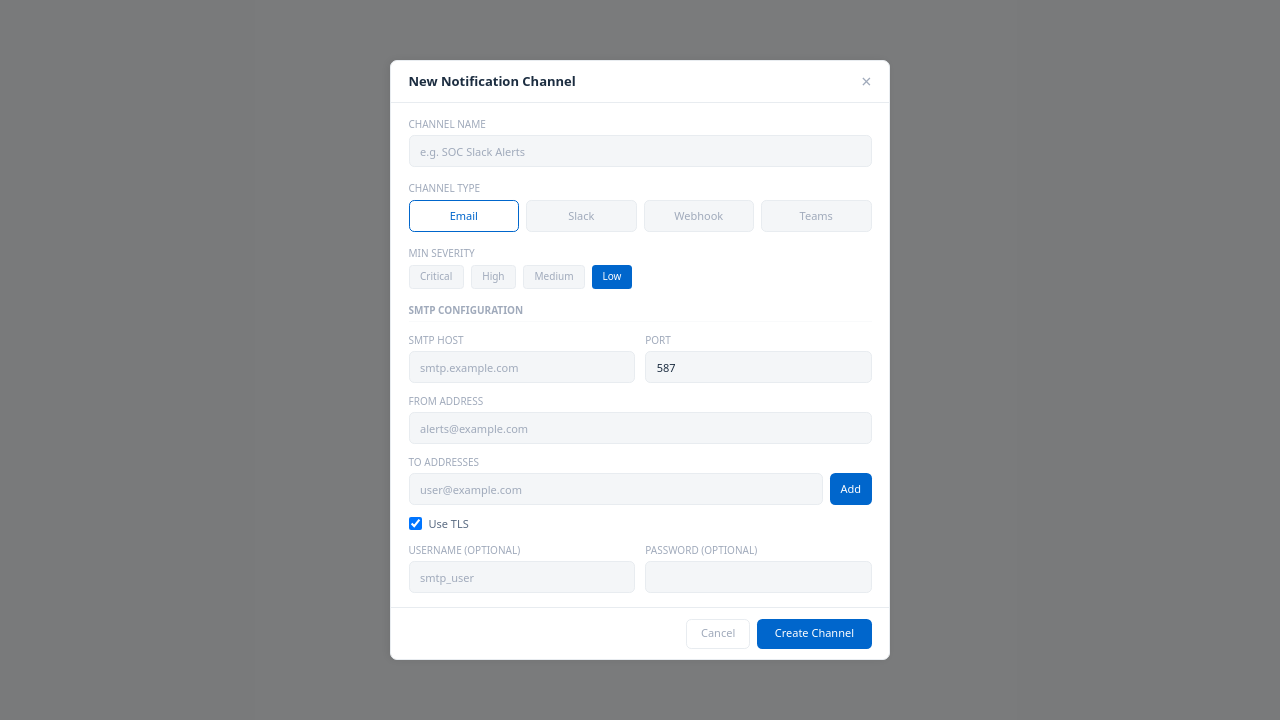
Test: ChannelModal › create mode — type switching › shows Teams webhook URL field when Teams type is selected
Click the button "Teams": [816, 216] box [761,200,872,232]
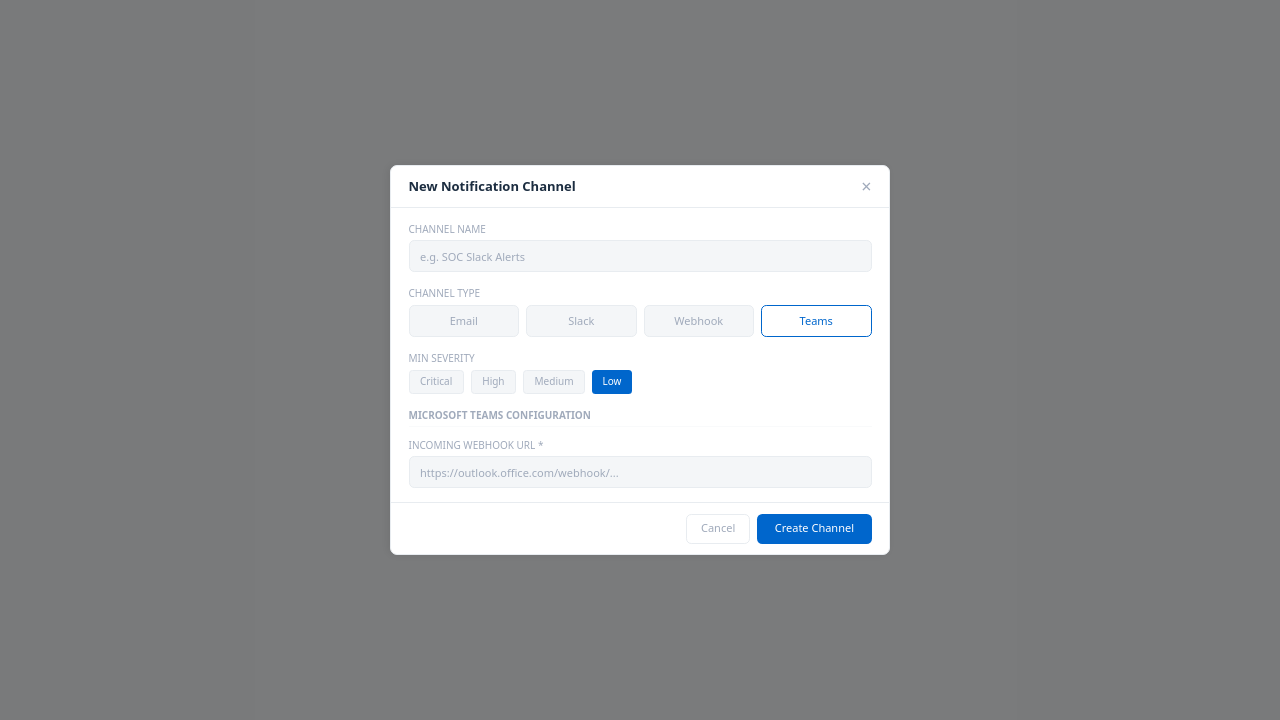
Expected: the field with placeholder "https://outlook.office.com/webhook/..." is shown, [408,456,872,488]
